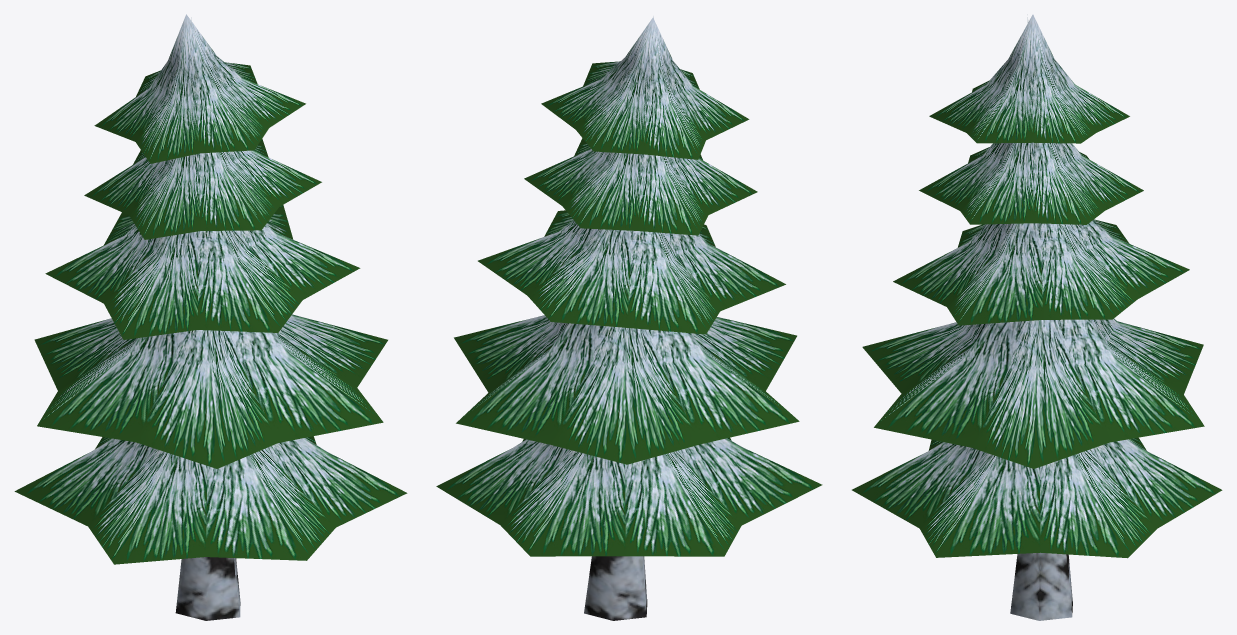
Rendered from Stage_BingYuan_Shu01.FBX.
3 renders of one model, left to right at view 1: azimuth 30°, elevation 25°; view 2: azimuth 150°, elevation 25°; view 3: azimuth 270°, elevation 25°, orthographic. The views are drawn at different scales.
Visible parts, largest first — view 1: Stage_BingYuan_Shu01; view 2: Stage_BingYuan_Shu01; view 3: Stage_BingYuan_Shu01.
Part boxes in pixels (x1,y1,x2,y2): Stage_BingYuan_Shu01: [14, 14, 407, 620]; Stage_BingYuan_Shu01: [436, 16, 822, 620]; Stage_BingYuan_Shu01: [852, 14, 1222, 620].
Size of the model in its own units: 434 by 713 by 413.
